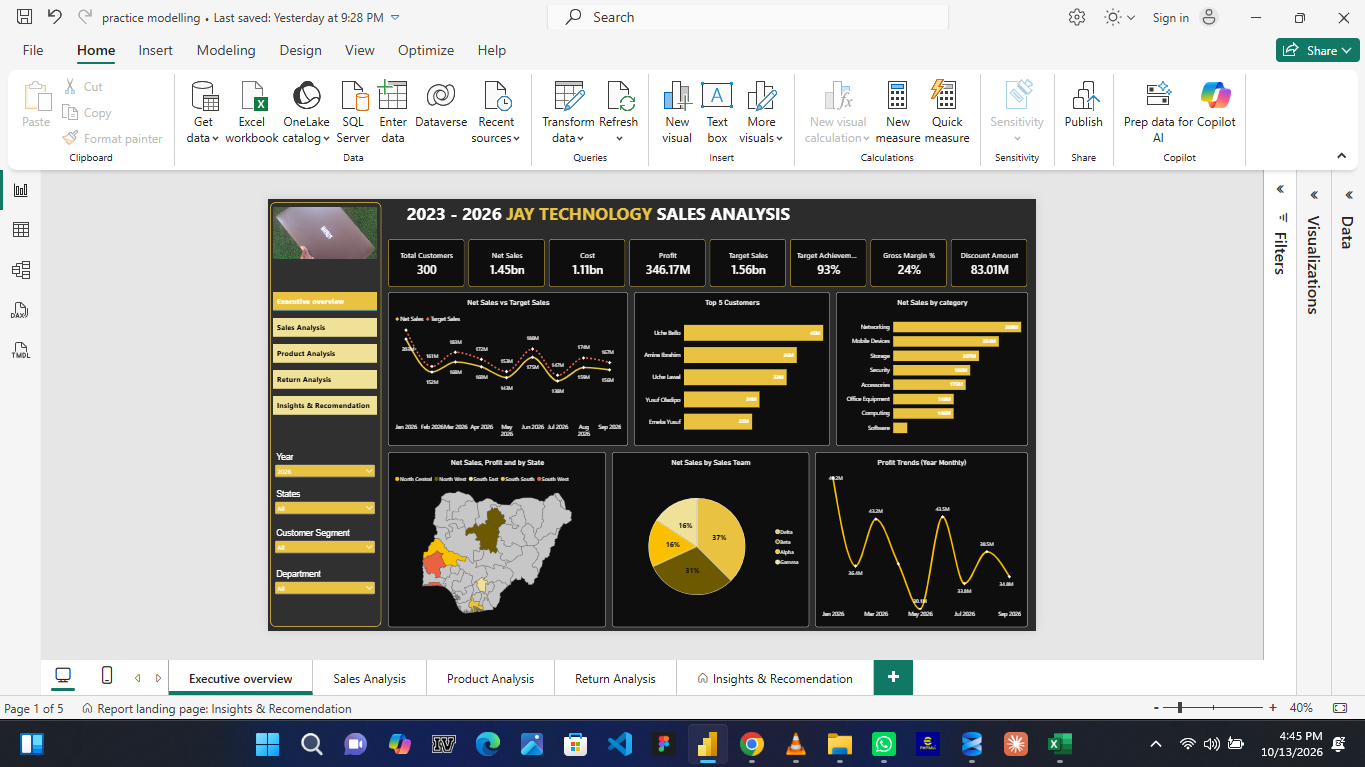

This screenshot's page, from the dashboard's own definition file:
{"tool":"powerbi","page":{"name":"Executive overview","canvas":[1920,1080],"ordinal":0},"visuals":[{"type":"shape","box":[4.3,8.6,278.6,1062.7],"z":0},{"type":"textbox","box":[300.2,8.6,1051.9,60.5],"z":1000},{"type":"cardVisual","fields":{"Data":["measure.Total Customers","measure.Net Sales","measure.Cost","measure.Gross Profit","measure.Target Sales","measure.Target Achievement %","measure.Gross Margin %","measure.Discount Amount"]},"box":[300,100,1600,120],"z":2000},{"type":"lineChart","title":"Net Sales vs Target Sales","fields":{"Y":["measure.Net Sales","measure.Target Sales"],"Category":["dim_date.year_month.Variation.Date Hierarchy.Year","dim_date.year_month.Variation.Date Hierarchy.Month"]},"box":[300,232.5,600,385],"z":3000},{"type":"slicer","fields":{"Values":["dim_date.year"]},"box":[12.5,632.5,260,75],"z":4000},{"type":"clusteredBarChart","fields":{"Y":["measure.Net Sales"],"Category":["dim_product.category"]},"box":[1420,232.5,480,385],"z":5000},{"type":"shapeMap","title":"Net Sales, Profit and by State","fields":{"Category":["dim_customer.state"],"Value":["measure.Net Sales"],"Series":["dim_customer.territory"]},"box":[300,632.5,545,437.5],"z":6000},{"type":"barChart","title":"Top 5 Customers","fields":{"Category":["dim_customer.customer_name"],"Y":["measure.Net Sales"]},"box":[915,232.5,490,385],"z":7000},{"type":"pieChart","title":"Net Sales by Sales Team","fields":{"Y":["measure.Net Sales"],"Category":["dim_sales_reps.sales_team"]},"box":[860,632.5,492.5,437.5],"z":8000},{"type":"lineChart","title":"Profit Trends (Year Monthly)","fields":{"Category":["dim_date.year_month.Variation.Date Hierarchy.Year","dim_date.year_month.Variation.Date Hierarchy.Month"],"Y":["measure.Profit"]},"box":[1368,632,532,438],"z":9000},{"type":"slicer","fields":{"Values":["dim_regions.region_name"]},"box":[12.5,725,260,75],"z":10000},{"type":"slicer","fields":{"Values":["dim_customer.customer_segments"]},"box":[12.5,822.5,260,72.5],"z":11000},{"type":"slicer","fields":{"Values":["dim_product.department"]},"box":[12.5,925,260,72.5],"z":12000},{"type":"pageNavigator","box":[12.5,232.5,260,307.5],"z":13000},{"type":"image","box":[12.5,20,260,130],"z":14000}]}

Visuals, with their boxes on the page's 1920x1080 design canvas (x1, y1, x2, y2). These are canvas units, not pixel positions in the 1365x767 screenshot, which may show the page scaled, cropped or inside an application window:
shape: x1=4, y1=9, x2=283, y2=1071
textbox: x1=300, y1=9, x2=1352, y2=69
cardVisual - measure.Total Customers x measure.Net Sales: x1=300, y1=100, x2=1900, y2=220
"Net Sales vs Target Sales" lineChart: x1=300, y1=232, x2=900, y2=618
slicer - dim_date.year: x1=12, y1=632, x2=272, y2=708
clusteredBarChart - measure.Net Sales x dim_product.category: x1=1420, y1=232, x2=1900, y2=618
"Net Sales, Profit and by State" shapeMap: x1=300, y1=632, x2=845, y2=1070
"Top 5 Customers" barChart: x1=915, y1=232, x2=1405, y2=618
"Net Sales by Sales Team" pieChart: x1=860, y1=632, x2=1352, y2=1070
"Profit Trends (Year Monthly)" lineChart: x1=1368, y1=632, x2=1900, y2=1070
slicer - dim_regions.region_name: x1=12, y1=725, x2=272, y2=800
slicer - dim_customer.customer_segments: x1=12, y1=822, x2=272, y2=895
slicer - dim_product.department: x1=12, y1=925, x2=272, y2=998
pageNavigator: x1=12, y1=232, x2=272, y2=540
image: x1=12, y1=20, x2=272, y2=150
